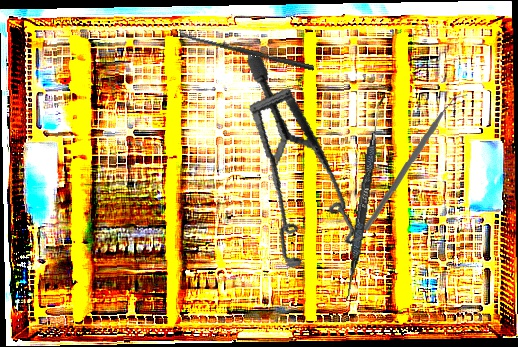Chopper: (363, 90, 469, 235)
Spatula Surgical: (344, 92, 385, 302)
Speculum: (204, 54, 397, 282)
Surgical Spoon: (178, 31, 315, 71)
